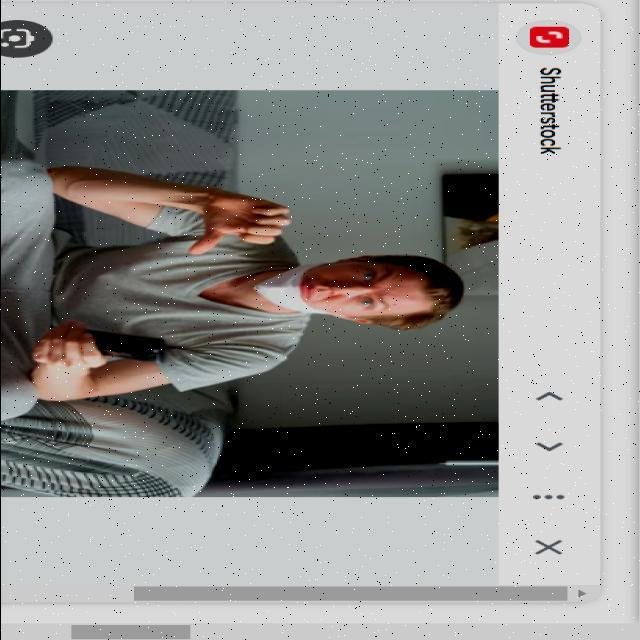face_no_mask: (282, 253, 420, 325)
